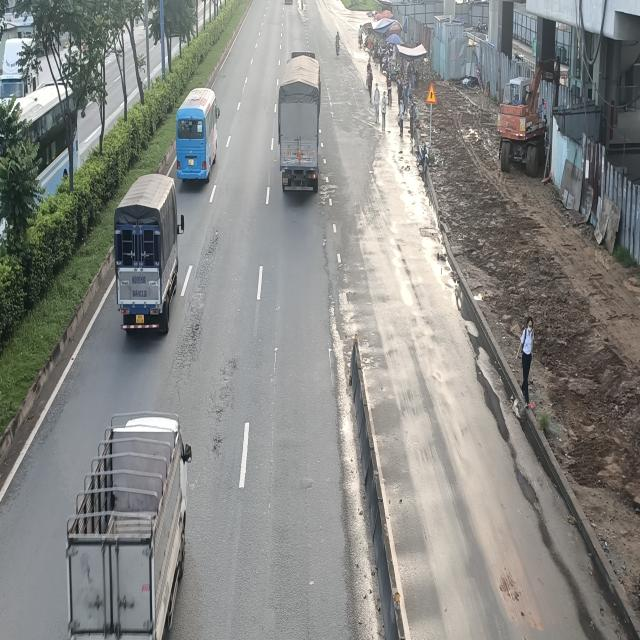coach: (178, 89, 223, 187)
truck: (70, 417, 195, 640), (114, 172, 186, 336), (277, 53, 321, 197)
